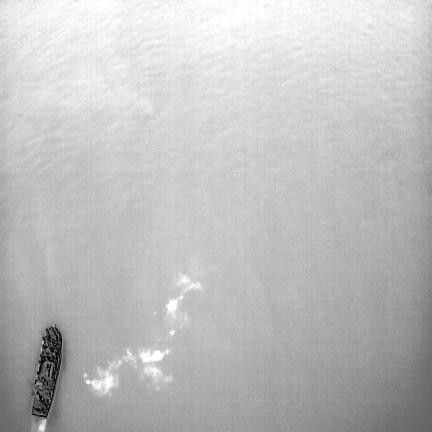flukeprints: (166, 274, 201, 320), (84, 360, 122, 395), (142, 364, 172, 389), (139, 350, 168, 363)
